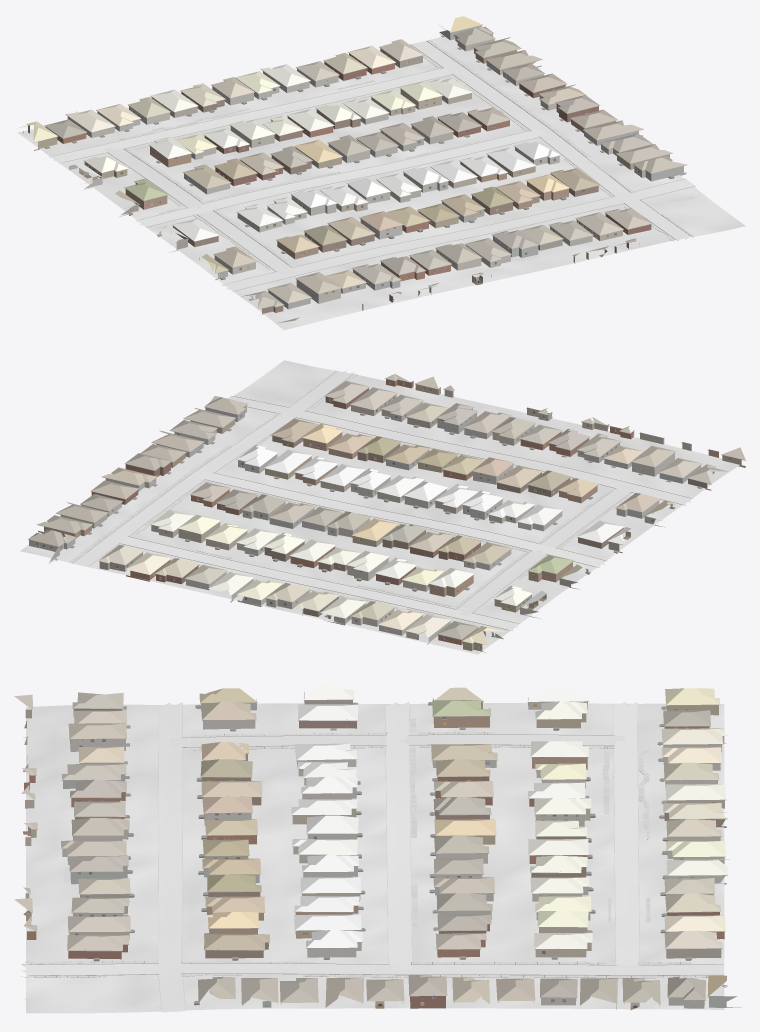
The picture shows the model from 3 angles, top to bottom: view 1: azimuth 30°, elevation 25°; view 2: azimuth 150°, elevation 25°; view 3: azimuth 270°, elevation 25°; orthographic projection. The views are drawn at different scales.
Parts seen in each view (by area): view 1: roof, ground, concrete, wall, detail, wall_stucco, wall_stone, curb, walk, glass; view 2: roof, ground, concrete, wall, detail, wall_stucco, wall_stone, curb, walk, glass; view 3: ground, roof, concrete, wall, detail, walk, wall_stone, curb, wall_stucco.
Part boxes in pixels (x1=…): roof: x1=19, y1=16, x2=686, y2=323; ground: x1=17, y1=37, x2=745, y2=330; concrete: x1=48, y1=41, x2=694, y2=290; wall: x1=28, y1=48, x2=671, y2=314; detail: x1=22, y1=25, x2=687, y2=324; wall_stucco: x1=67, y1=25, x2=686, y2=309; wall_stone: x1=84, y1=69, x2=559, y2=303; curb: x1=50, y1=40, x2=695, y2=291; walk: x1=117, y1=39, x2=728, y2=269; glass: x1=58, y1=35, x2=638, y2=300; roof: x1=28, y1=374, x2=745, y2=645; ground: x1=20, y1=360, x2=741, y2=654; concrete: x1=73, y1=371, x2=690, y2=630; wall: x1=38, y1=379, x2=745, y2=652; detail: x1=28, y1=378, x2=745, y2=649; wall_stucco: x1=29, y1=394, x2=700, y2=644; wall_stone: x1=81, y1=417, x2=674, y2=635; curb: x1=73, y1=370, x2=692, y2=630; walk: x1=69, y1=364, x2=630, y2=616; glass: x1=35, y1=381, x2=731, y2=649; ground: x1=26, y1=703, x2=724, y2=1013; roof: x1=14, y1=683, x2=729, y2=1007; concrete: x1=21, y1=702, x2=723, y2=1012; wall: x1=23, y1=692, x2=726, y2=1008; detail: x1=23, y1=699, x2=731, y2=1006; walk: x1=25, y1=718, x2=723, y2=1005; wall_stone: x1=62, y1=697, x2=726, y2=1005; curb: x1=21, y1=703, x2=723, y2=1011; wall_stucco: x1=63, y1=701, x2=741, y2=1009.
Size of the model in its own units: 264 by 13.61 by 262.
